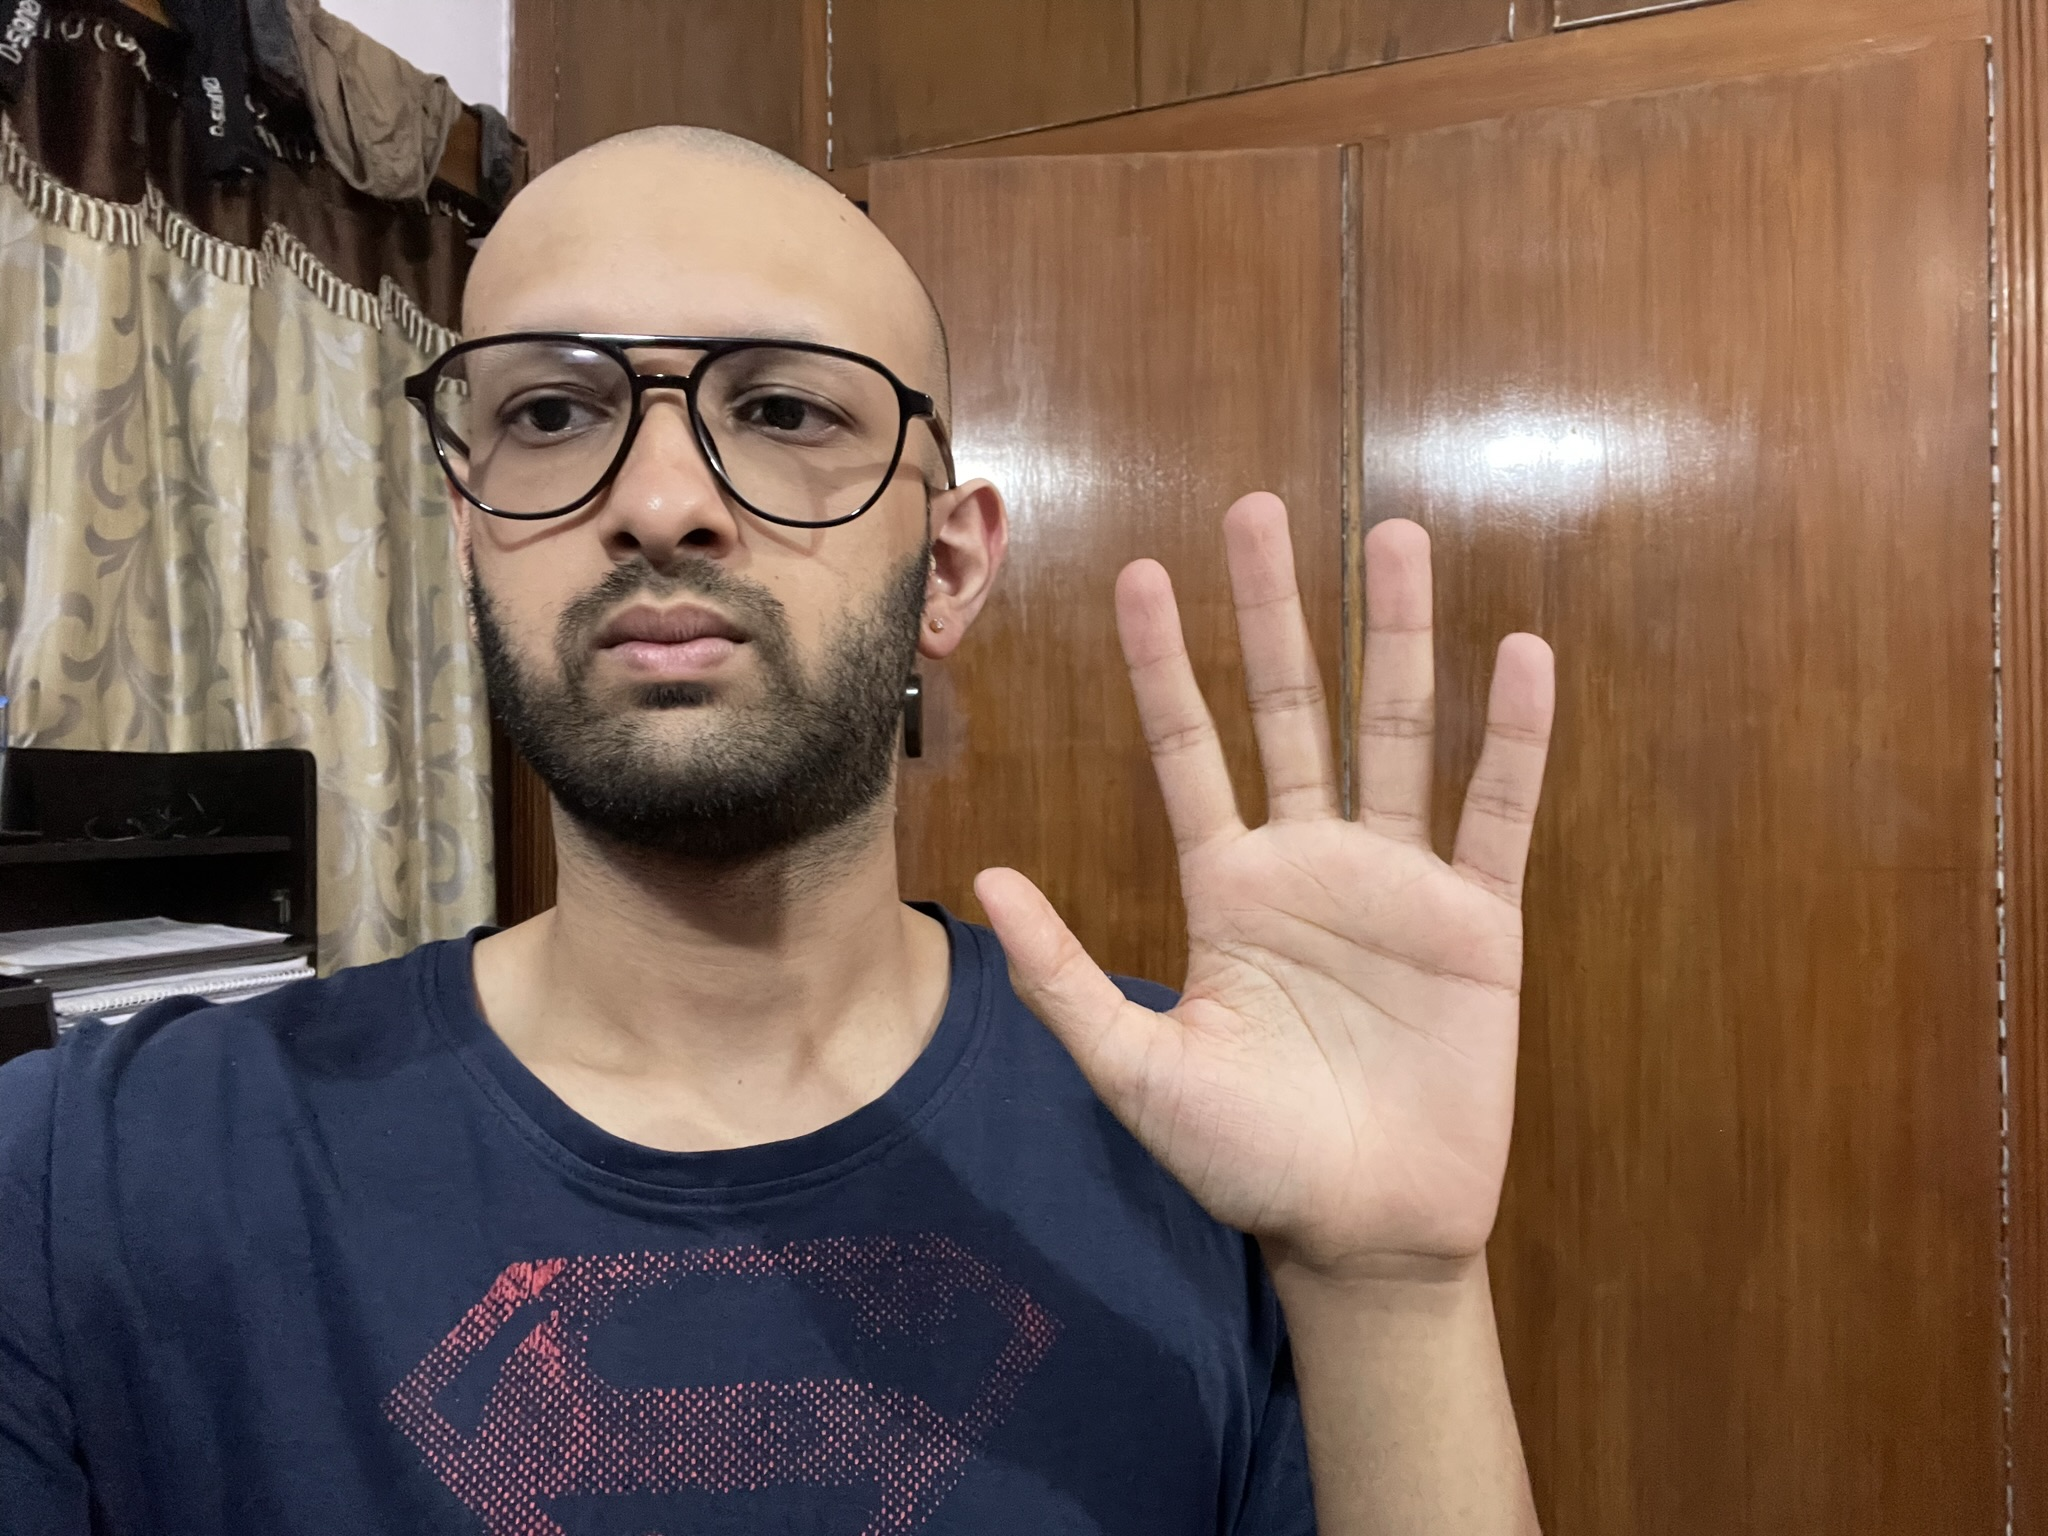Hello: (958, 487, 1574, 1297)
